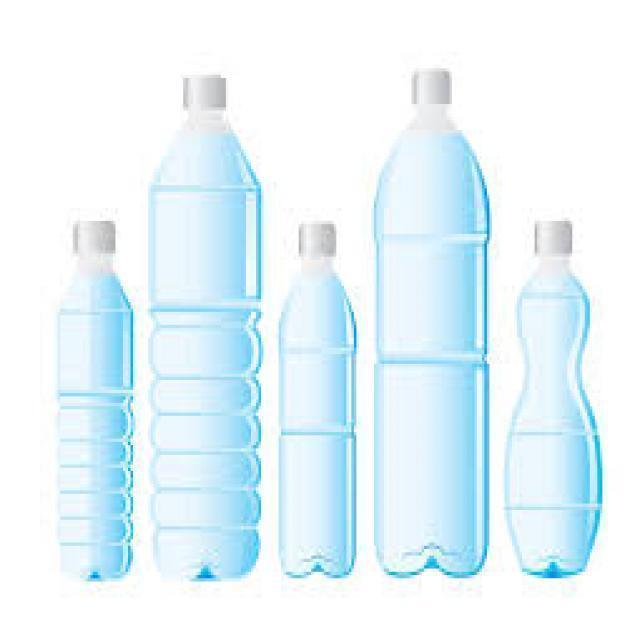Plastic: (369, 62, 492, 576), (152, 76, 260, 584), (511, 213, 597, 579), (278, 220, 358, 576), (56, 219, 134, 581)
